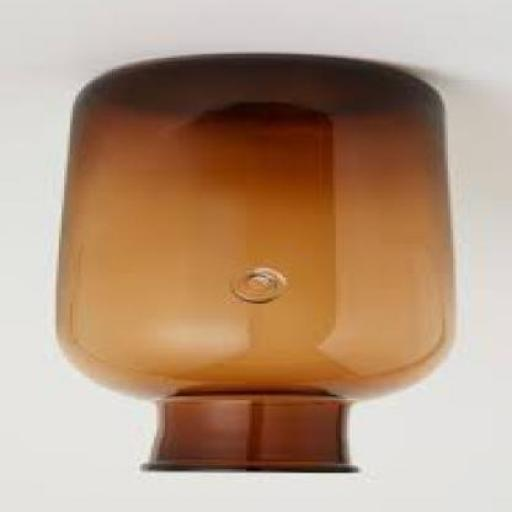glass: (50, 54, 456, 475)
